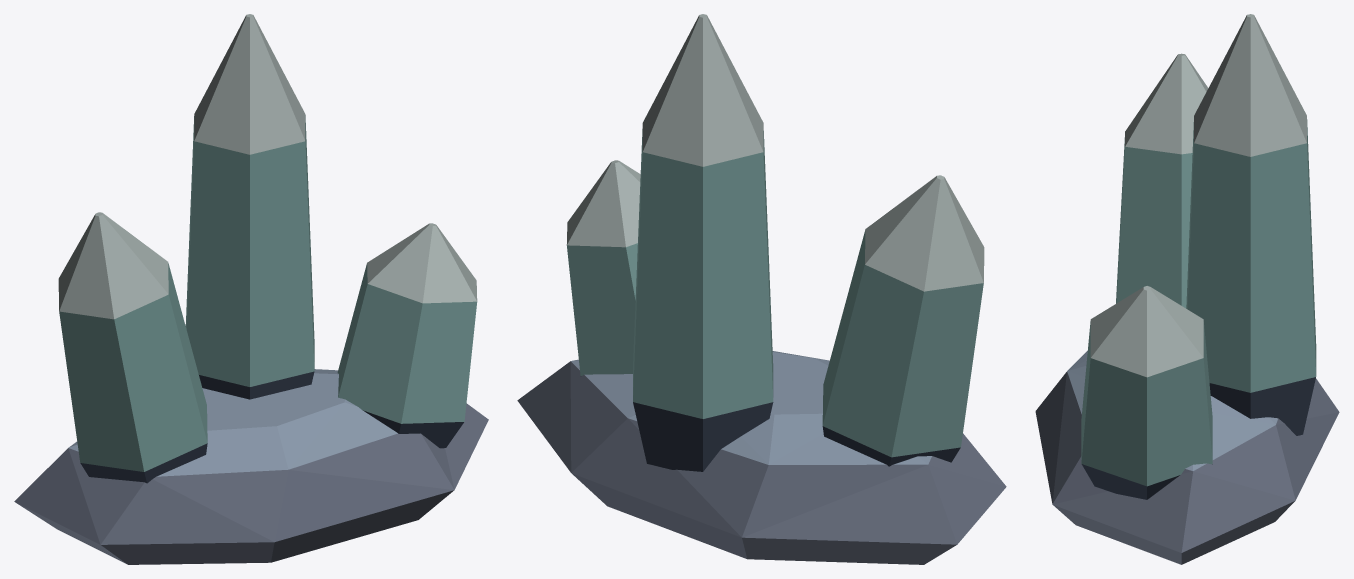
The model's file is crystal-cluster.glb.
3 views of the same model, side by side, from view 1: azimuth 30°, elevation 25°; view 2: azimuth 150°, elevation 25°; view 3: azimuth 270°, elevation 25° (orthographic). The views are drawn at different scales.
Parts seen in each view (by area): view 1: crystal-cluster__body; view 2: crystal-cluster__body; view 3: crystal-cluster__body.
Boxes of the visible parts, box(x1,y1,x2,y2) form: crystal-cluster__body: box(14, 14, 488, 564); crystal-cluster__body: box(517, 14, 1006, 564); crystal-cluster__body: box(1035, 14, 1339, 564).
Bounding box in the file's own units: 1.5 × 1.5 × 0.8823.
